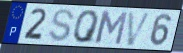2: (22, 8, 47, 42)
6: (149, 13, 173, 48)
M: (94, 10, 130, 46)
Q: (72, 9, 100, 45)
S: (48, 8, 76, 43)
V: (126, 11, 154, 47)
